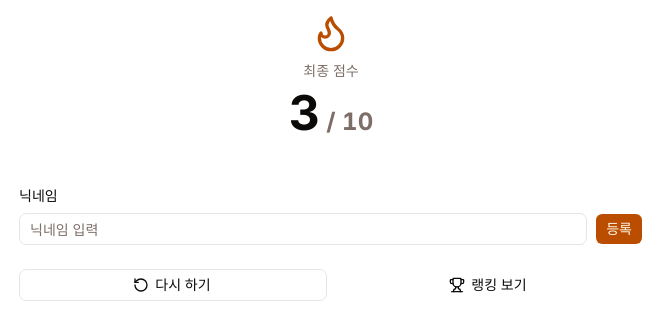
ResultScreen › 등록 완료 후에는 버튼이 '등록됨' 비활성 (중복 등록 방지)
Type "홍길동" into the field with placeholder "닉네임 입력" at (303, 229), box [19,213,587,245]
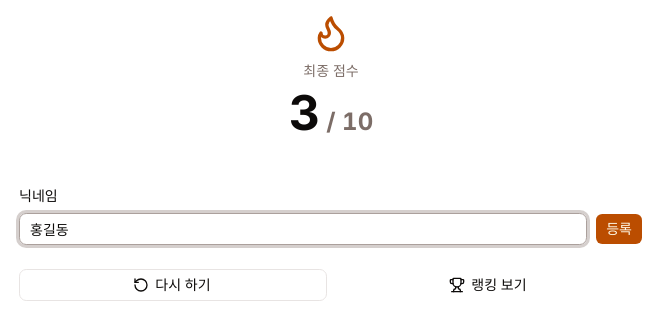
Click the button "등록" at (619, 229), box [595,213,643,245]
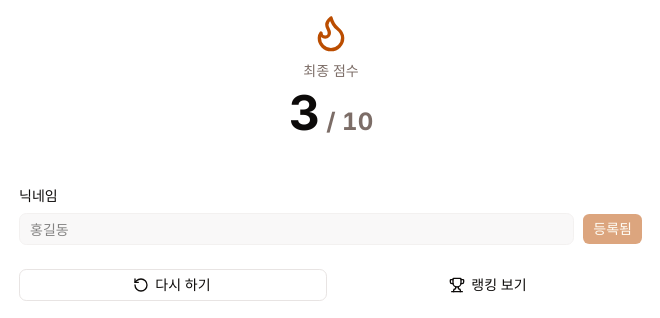
Expected: the button "등록됨" is disabled, [582,213,643,245]
